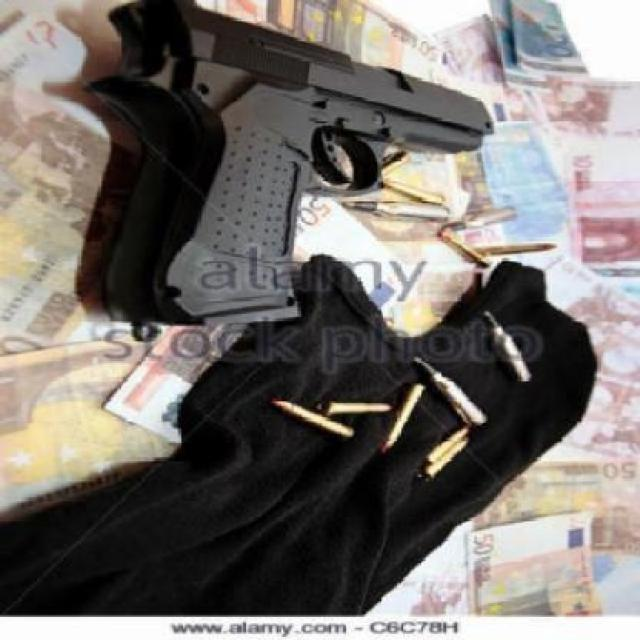gun: (57, 1, 503, 332)
